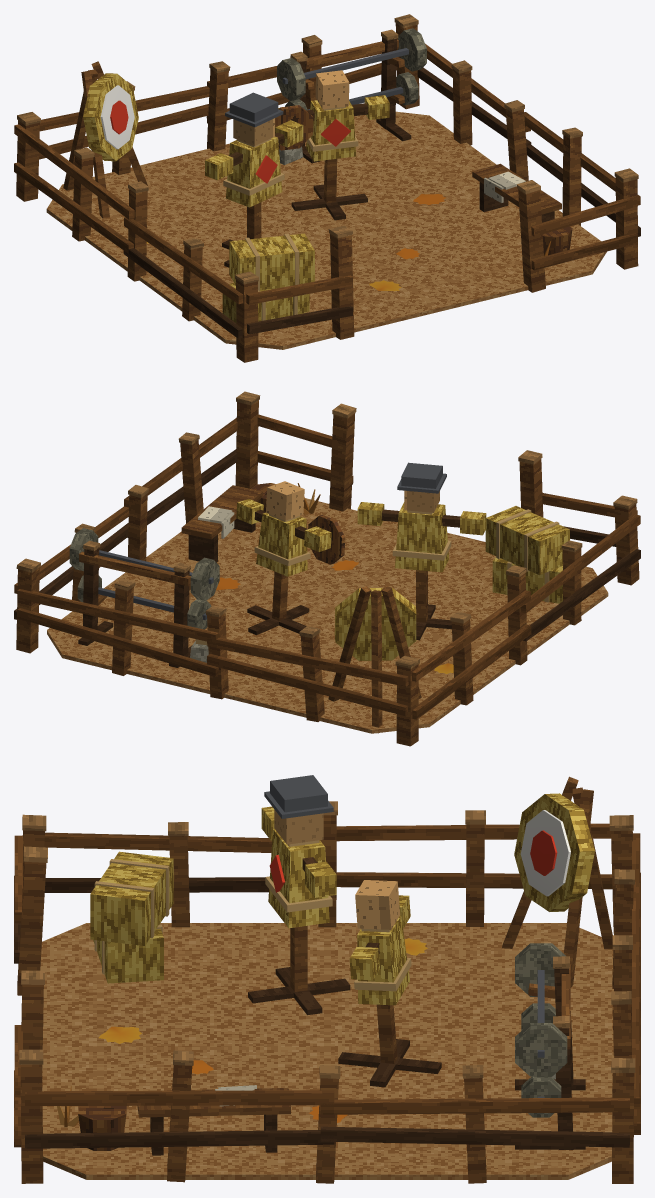
Rendered from arena.glb.
3 renders of one model, top to bottom at view 1: azimuth 30°, elevation 25°; view 2: azimuth 150°, elevation 25°; view 3: azimuth 270°, elevation 25°, orthographic. The views are drawn at different scales.
Visible parts, largest first — view 1: arena, sway_dummy, sway_dummy_2; view 2: arena, sway_dummy, sway_dummy_2; view 3: arena, sway_dummy, sway_dummy_2.
Boxes of the visible parts, x1,y1,x2,y2 form: arena: [14, 14, 640, 362]; sway_dummy: [205, 92, 303, 239]; sway_dummy_2: [275, 70, 389, 203]; arena: [14, 391, 640, 746]; sway_dummy: [357, 462, 486, 622]; sway_dummy_2: [236, 481, 345, 620]; arena: [14, 776, 640, 1183]; sway_dummy: [261, 775, 336, 991]; sway_dummy_2: [349, 880, 411, 1063].
Size of the model in its own units: 5.52 by 2.09 by 5.52.
20 materials, 11 textured.
